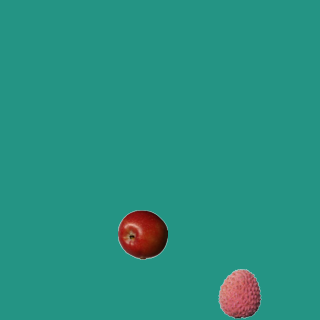Apple Braeburn: (117, 209, 167, 259)
Lychee: (214, 268, 264, 318)
